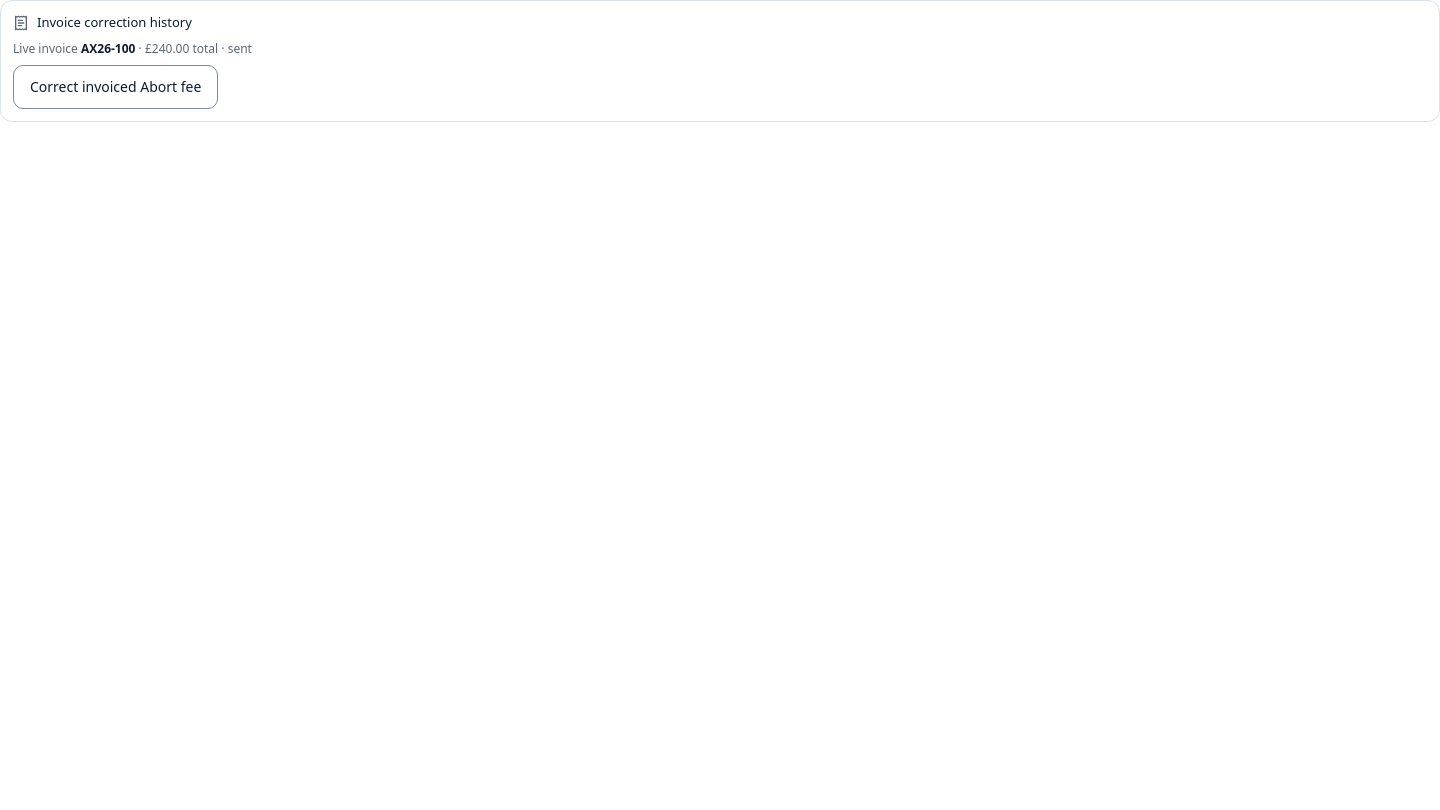
invoiced Abort fee correction › requires client agreement, a reason, and confirms a higher fee
Later steps or results of the test are not shown.
Click the button "Correct invoiced Abort fee".
click(116, 86)  # box [13,64,218,108]
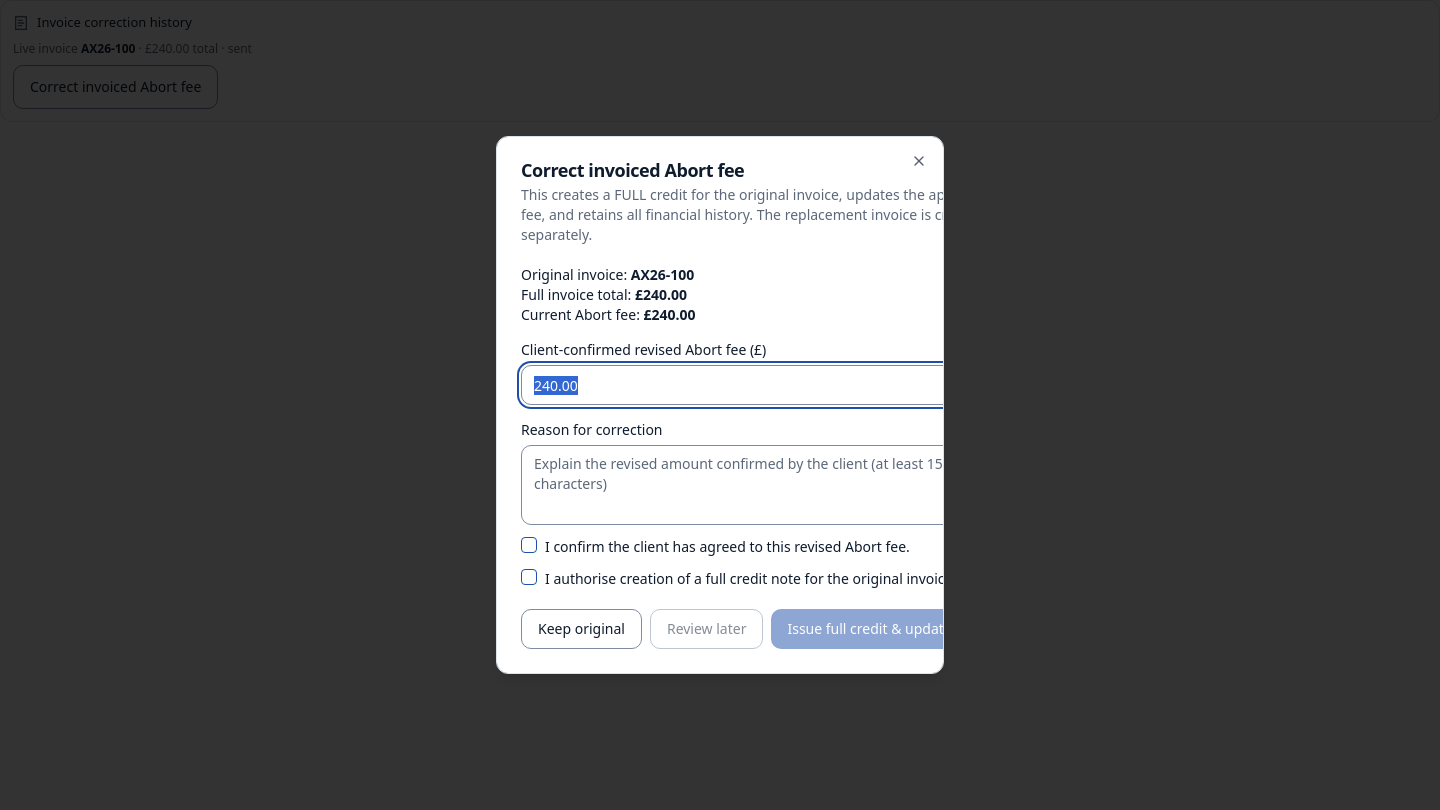
Expected: the button "Issue full credit & update fee" is disabled, [771,609,944,649]
Replace the text in the field labelled "Client-confirmed revised Abort fee (£)" with "275.00" at coordinates (756, 385), box [521,365,992,405]
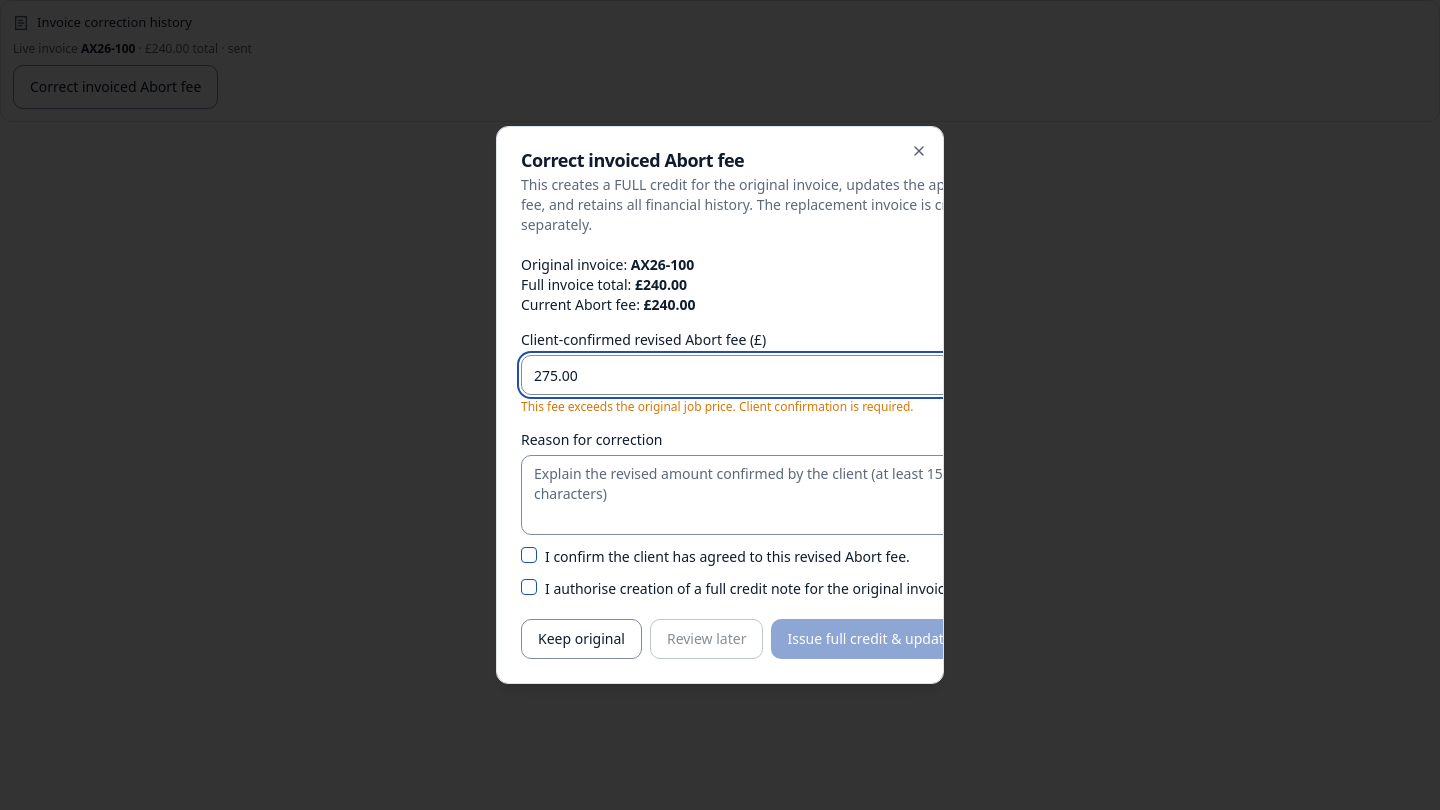
Replace the text in the text box labelled "Reason for correction" with "Client confirmed a higher Abort fee" at coordinates (756, 495), box [521,455,992,535]
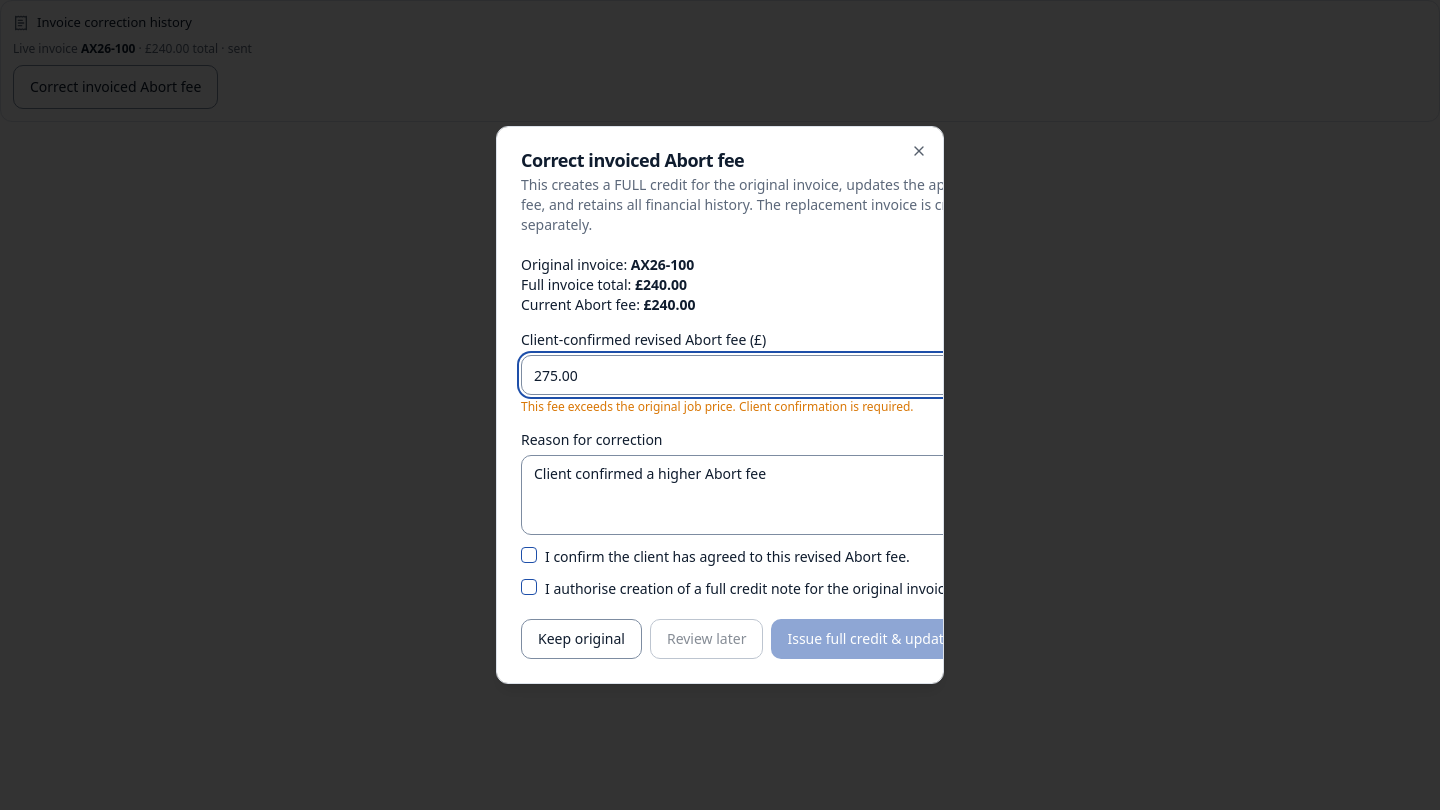
Expected: the button "Issue full credit & update fee" is disabled, [771,619,944,659]
Click the text "I confirm the client has agreed to this revised Abort fee.".
click(727, 557)  # box [545,547,910,567]
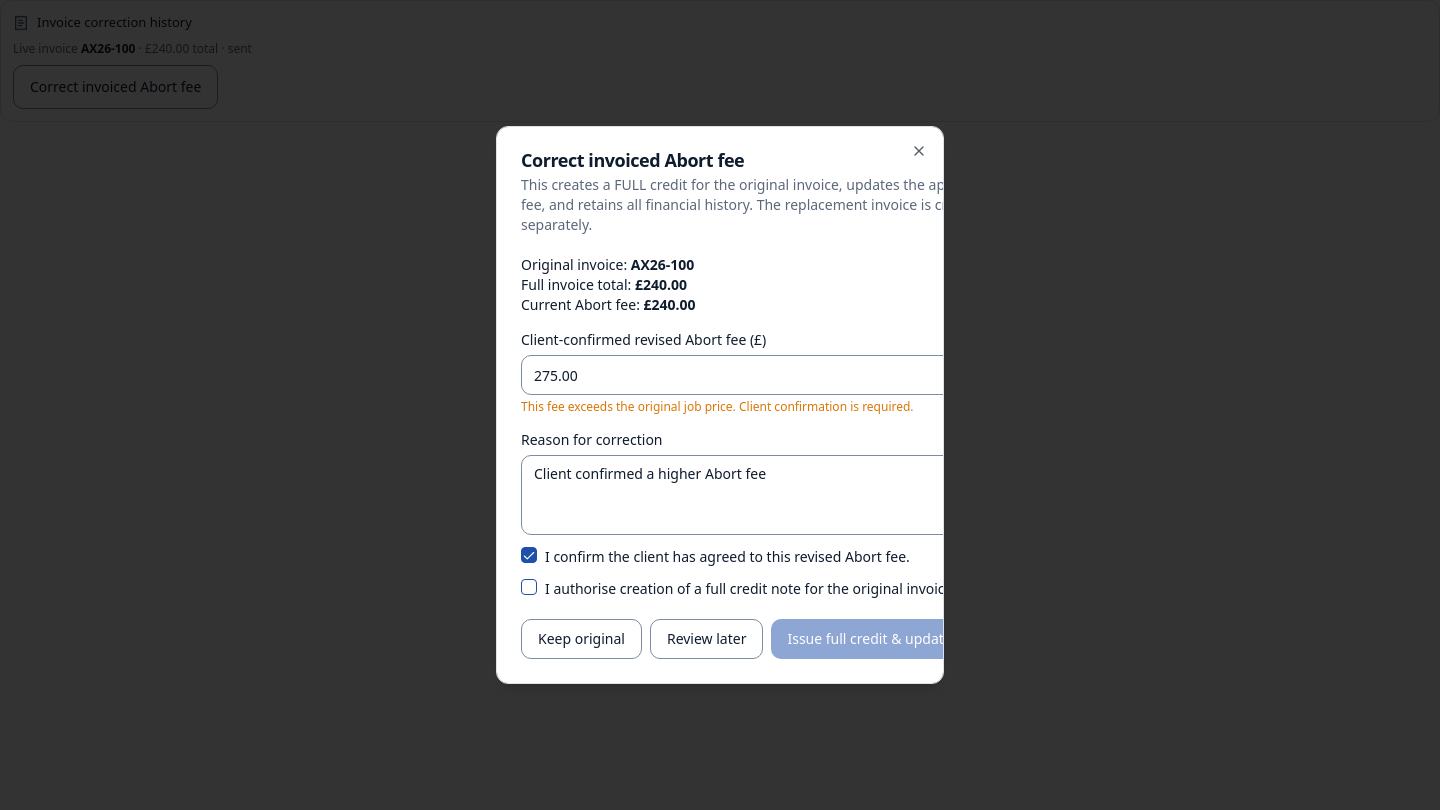
Expected: the button "Issue full credit & update fee" is disabled, [771,619,944,659]
Click the text "I authorise creation of a full credit note for the original invoice.".
click(751, 589)  # box [545,579,956,599]
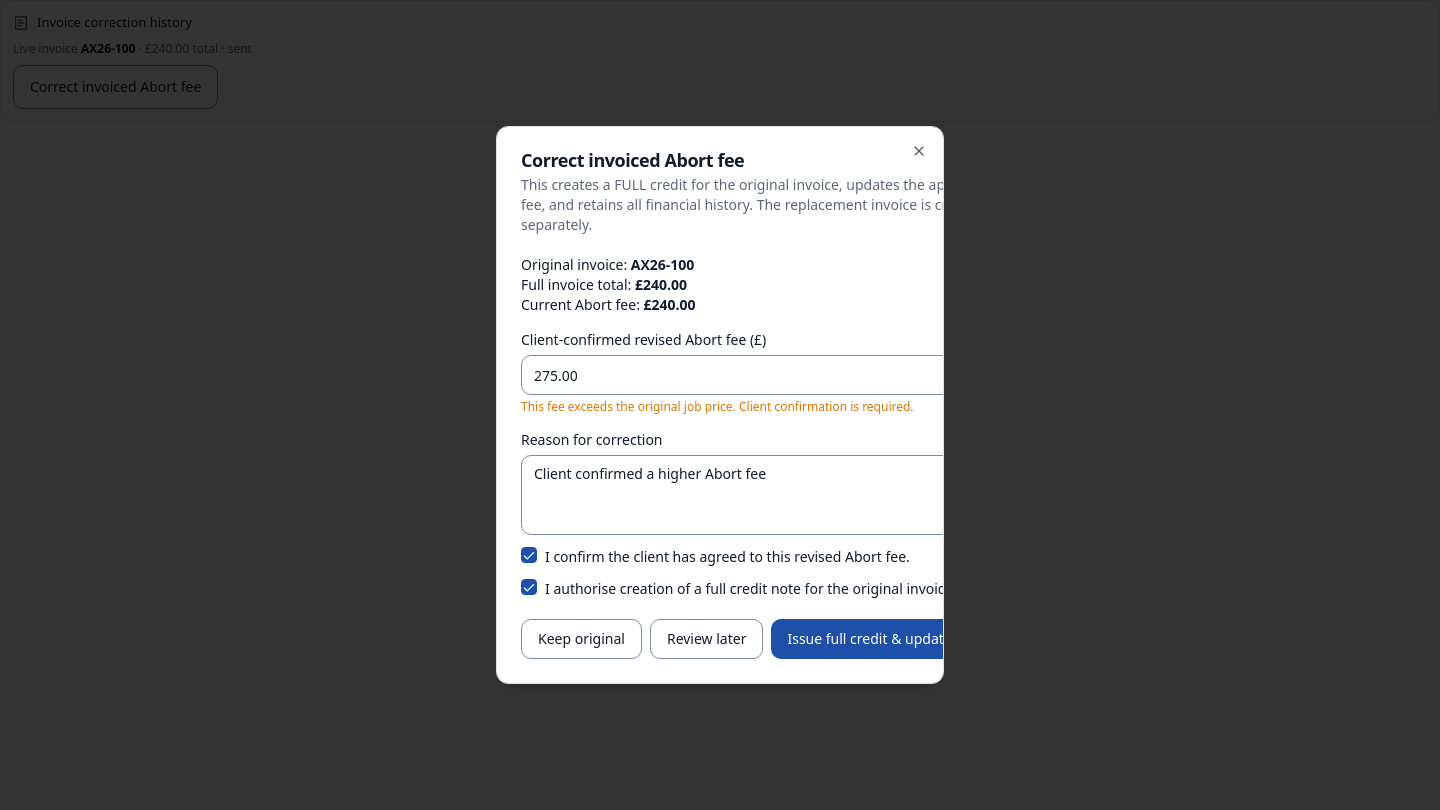
Expected: the button "Issue full credit & update fee" is enabled, [771,619,944,659]
